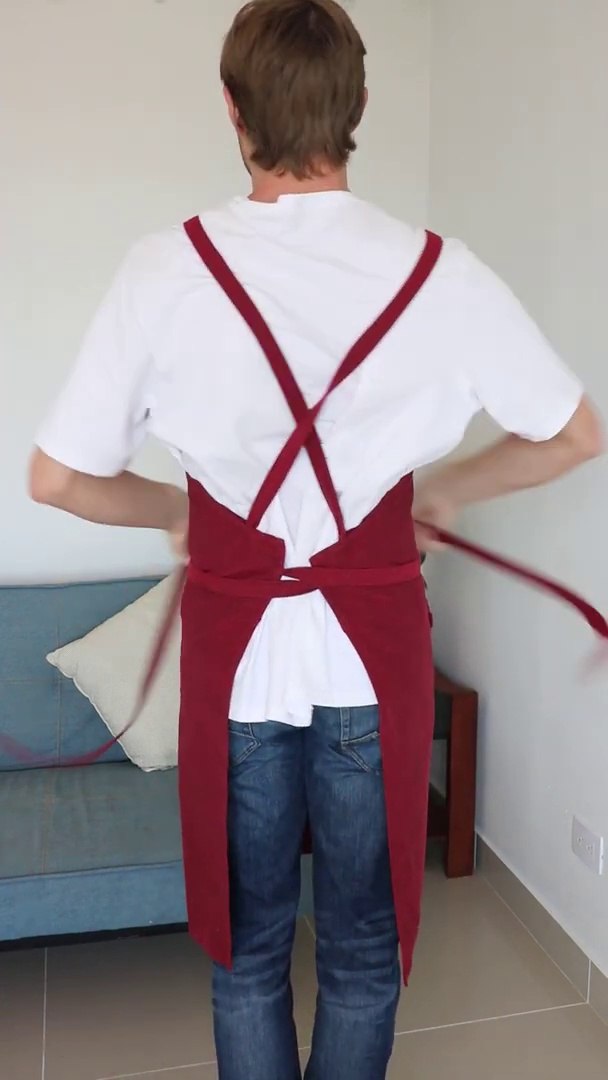Apron: (178, 200, 420, 692)
No_Glove: (410, 492, 460, 544)
No_Hairnet: (230, 0, 371, 178)
